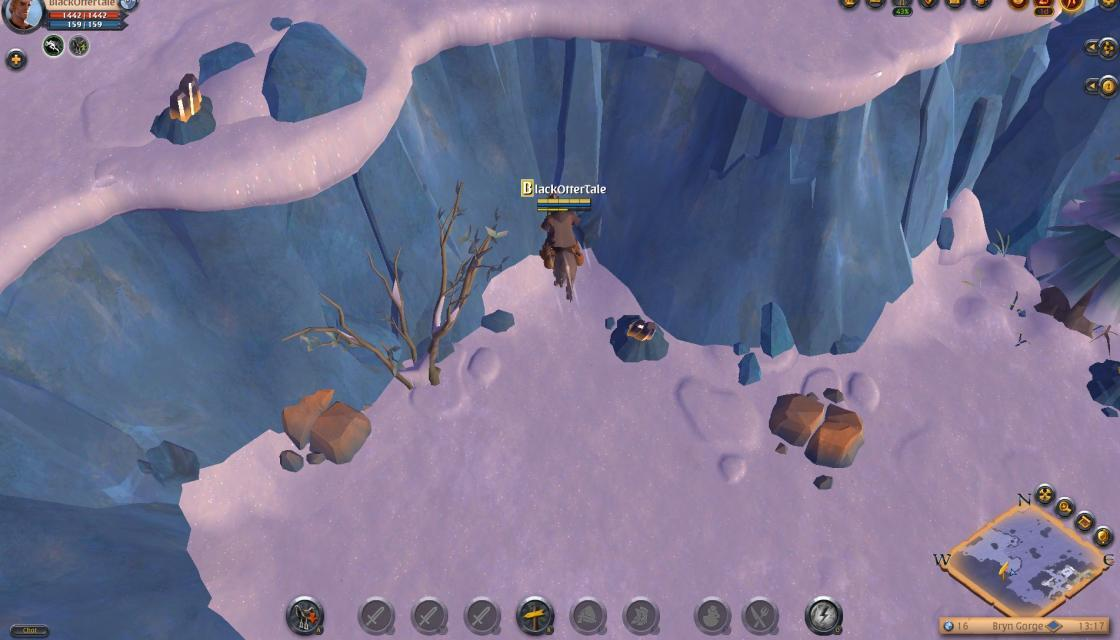copperore: (150, 69, 218, 147), (604, 309, 667, 363)
limestone: (764, 390, 870, 470), (276, 389, 371, 475)
